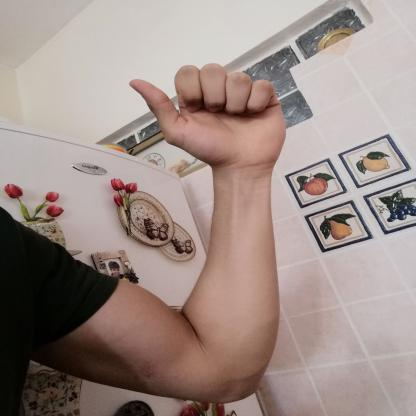DAD: (120, 56, 296, 178)
